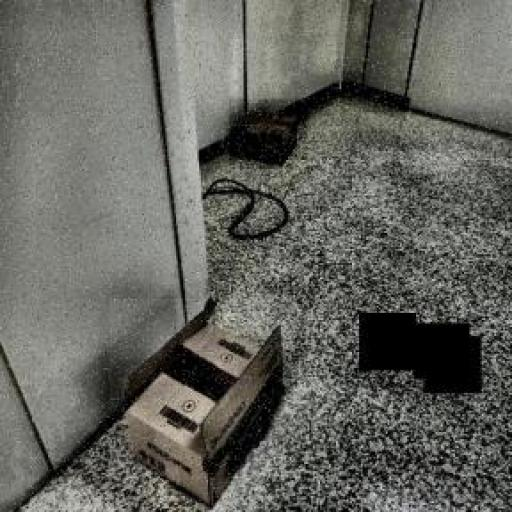box: (109, 299, 296, 505), (230, 98, 308, 170)
